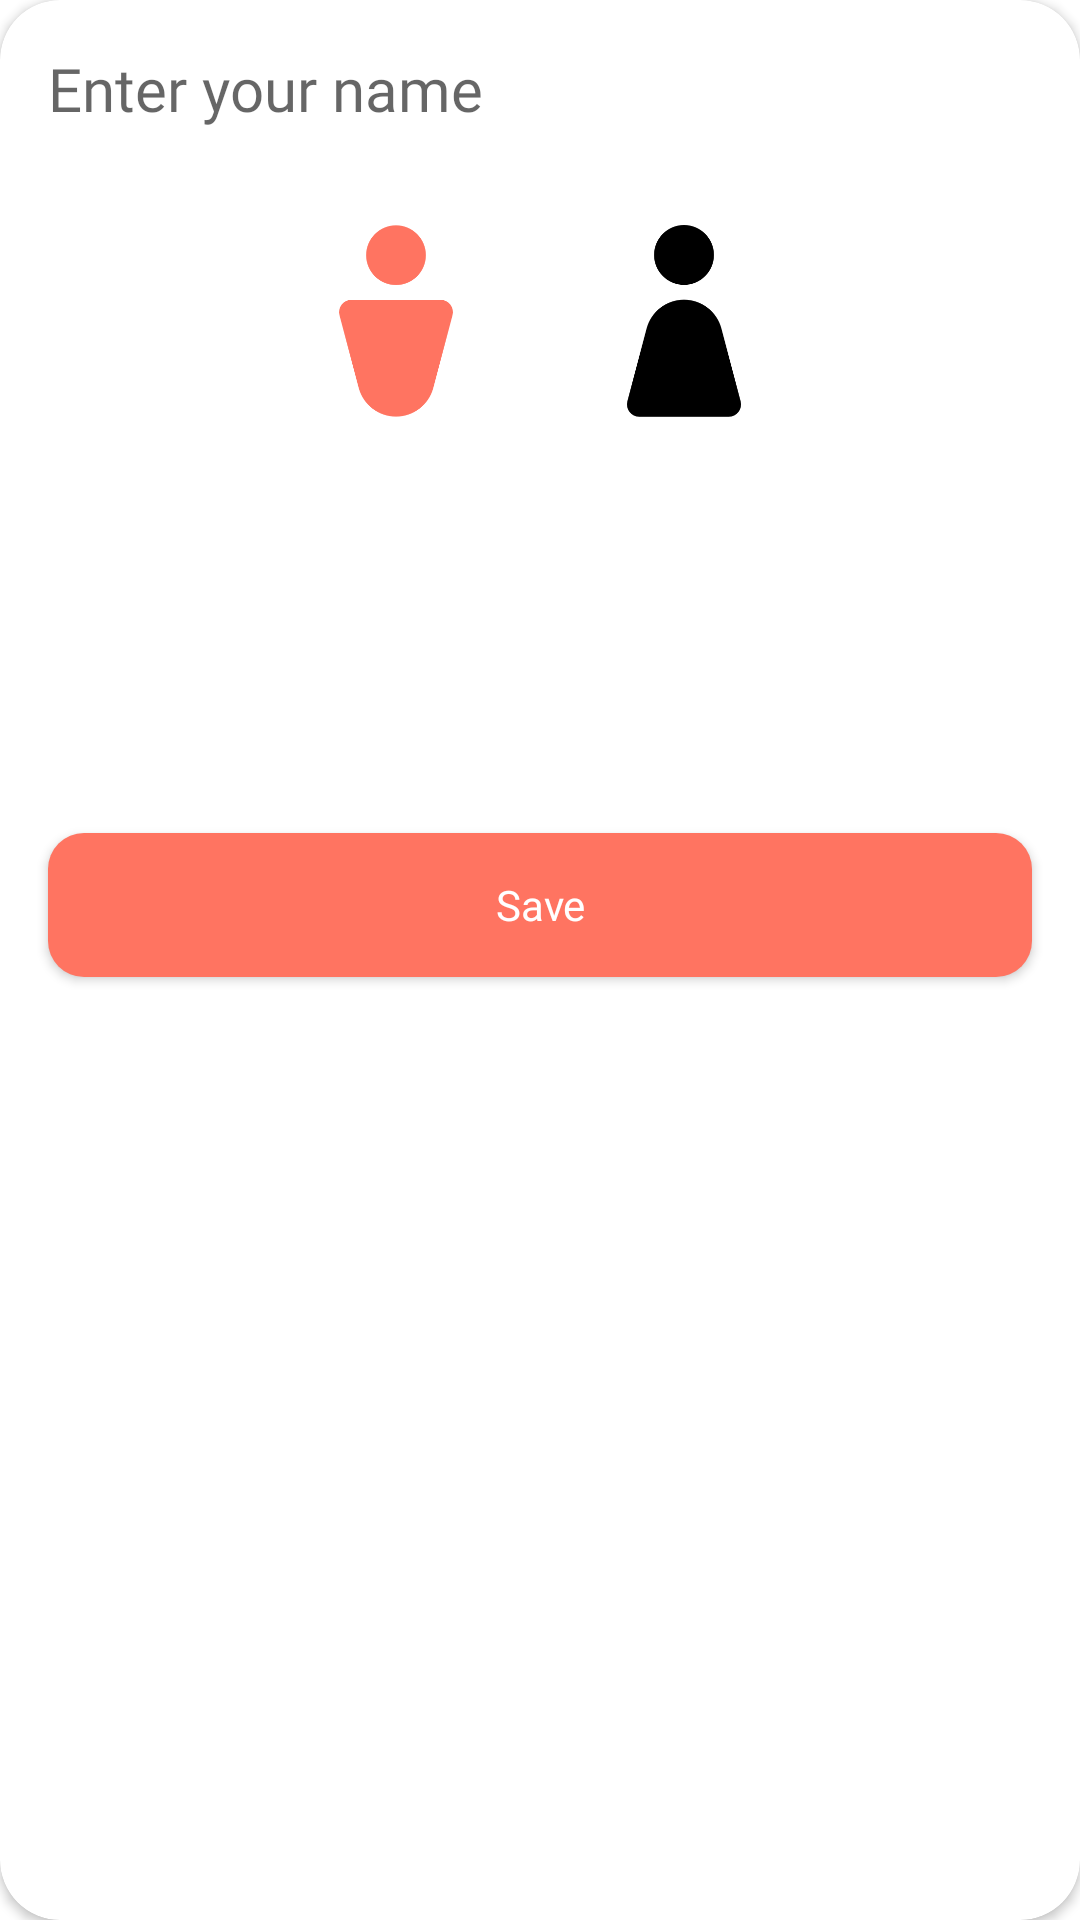

Icon click points for this 1080x1920 phone screenshot, format point (x, y):
female: point (684, 321)
male: point (396, 321)
